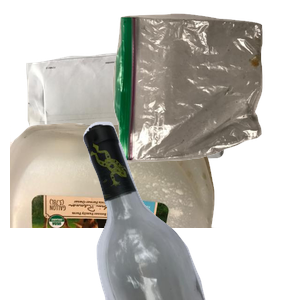glass: (81, 120, 300, 300)
paper: (24, 43, 242, 202)
plastic: (10, 120, 220, 300)
trash: (110, 11, 300, 167)
